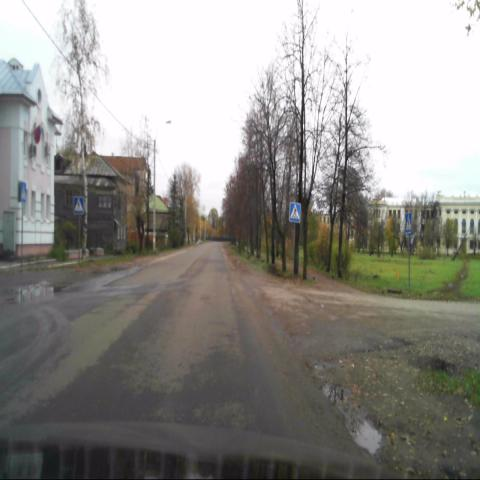5_19_1: (289, 202, 300, 222), (74, 196, 84, 214), (405, 213, 412, 236), (20, 181, 26, 203)
